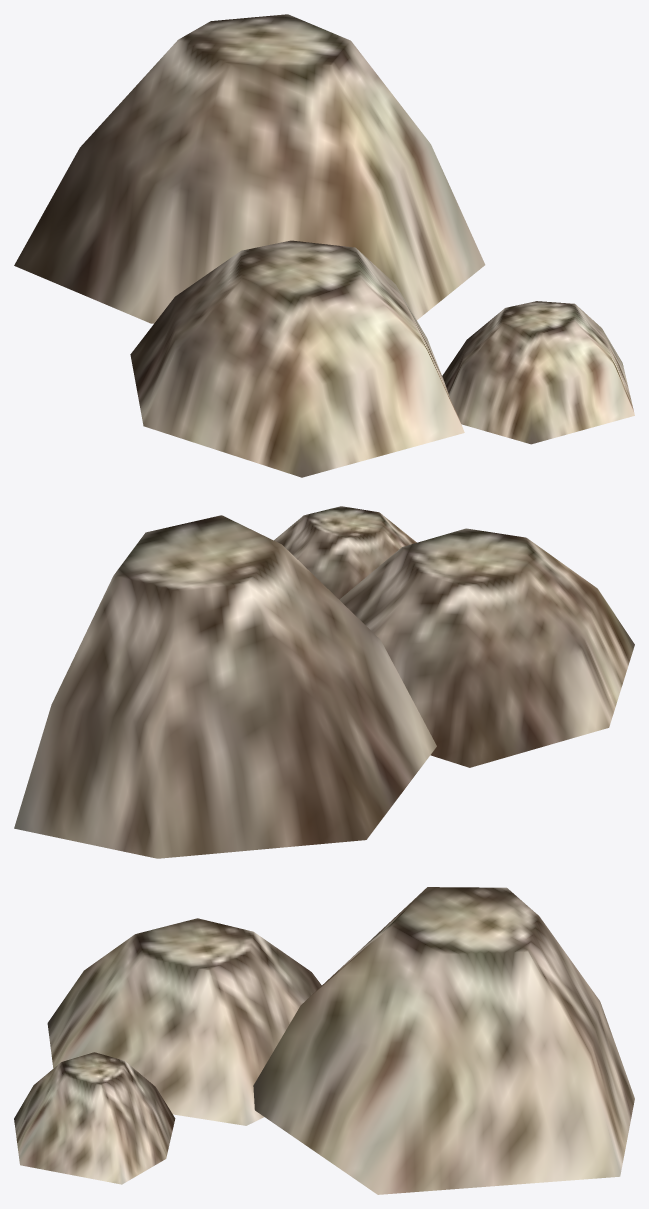
Rendered from pir_m_prp_dvj_barnacleGroup_a.fbx.
3 renders of one model, top to bottom at view 1: azimuth 30°, elevation 25°; view 2: azimuth 150°, elevation 25°; view 3: azimuth 270°, elevation 25°, orthographic. The views are drawn at different scales.
Parts seen in each view (by area): view 1: barnacle2, barnacle5, barnacle8; view 2: barnacle2, barnacle5, barnacle8; view 3: barnacle2, barnacle5, barnacle8.
Boxes of the visible parts, bbox=[...] form: barnacle2: bbox=[14, 14, 485, 323]; barnacle5: bbox=[130, 240, 464, 477]; barnacle8: bbox=[442, 301, 634, 444]; barnacle2: bbox=[14, 515, 436, 858]; barnacle5: bbox=[339, 528, 634, 767]; barnacle8: bbox=[274, 506, 416, 599]; barnacle2: bbox=[253, 887, 634, 1194]; barnacle5: bbox=[47, 918, 321, 1125]; barnacle8: bbox=[14, 1052, 175, 1184].
Bounding box in the file's own units: 56.62 × 30.6 × 78.49.
Materials: 1 (1 with a texture image).
